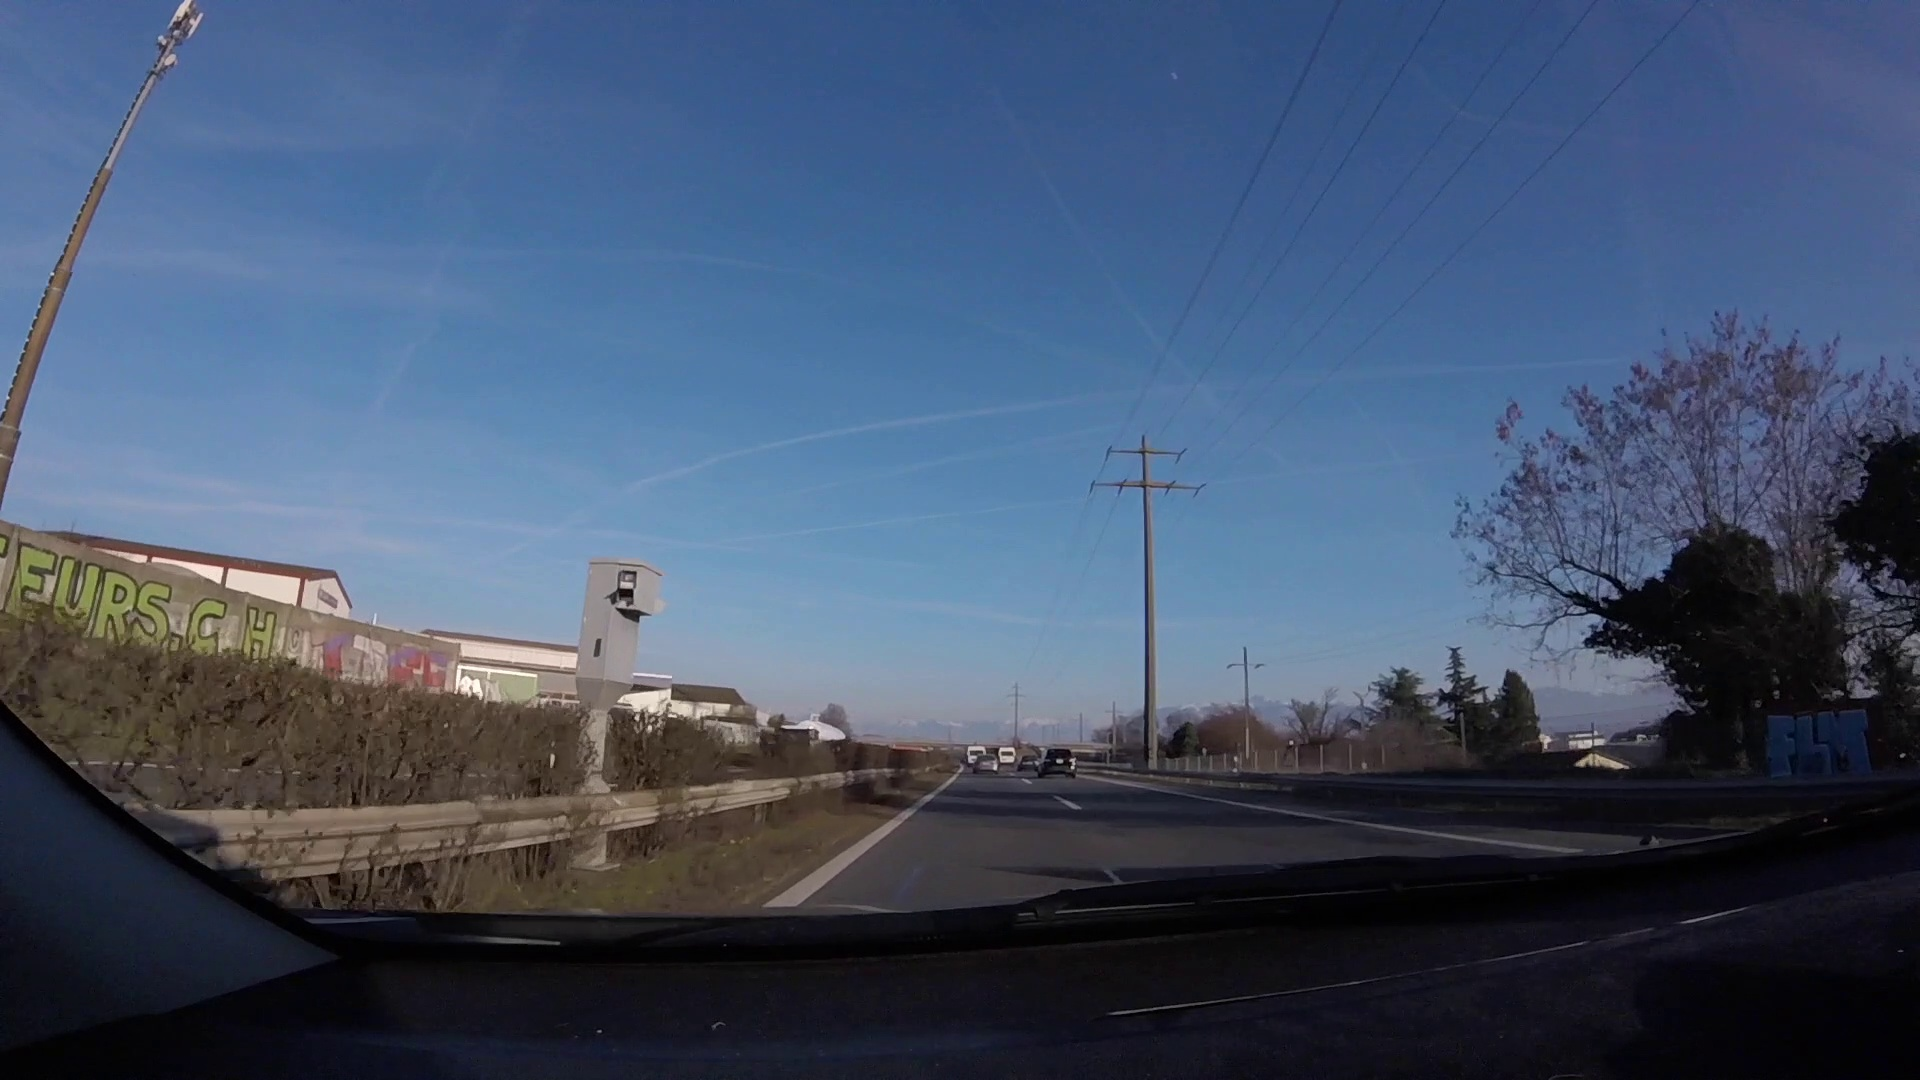radar: (574, 555, 671, 749)
